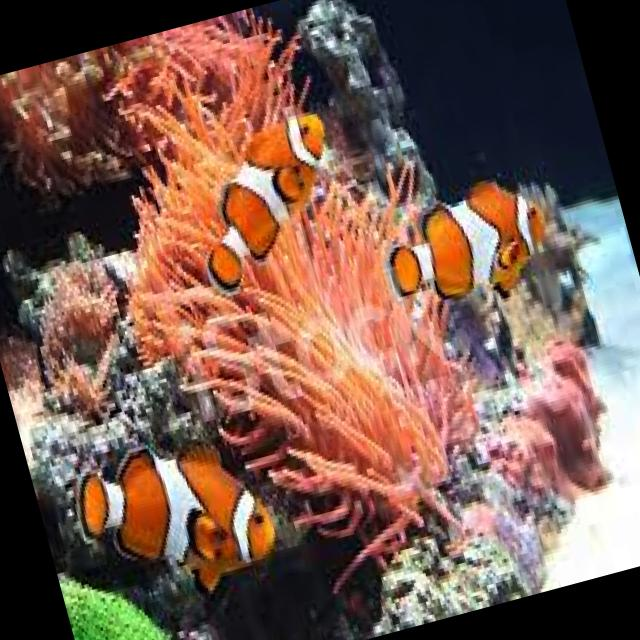ClownFish: (62, 410, 290, 631), (174, 105, 359, 294), (370, 165, 564, 335)
